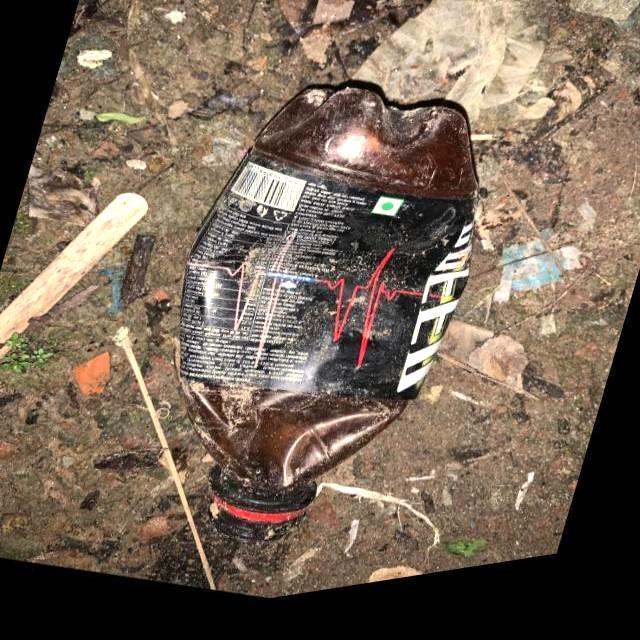bottle: (147, 54, 504, 589)
